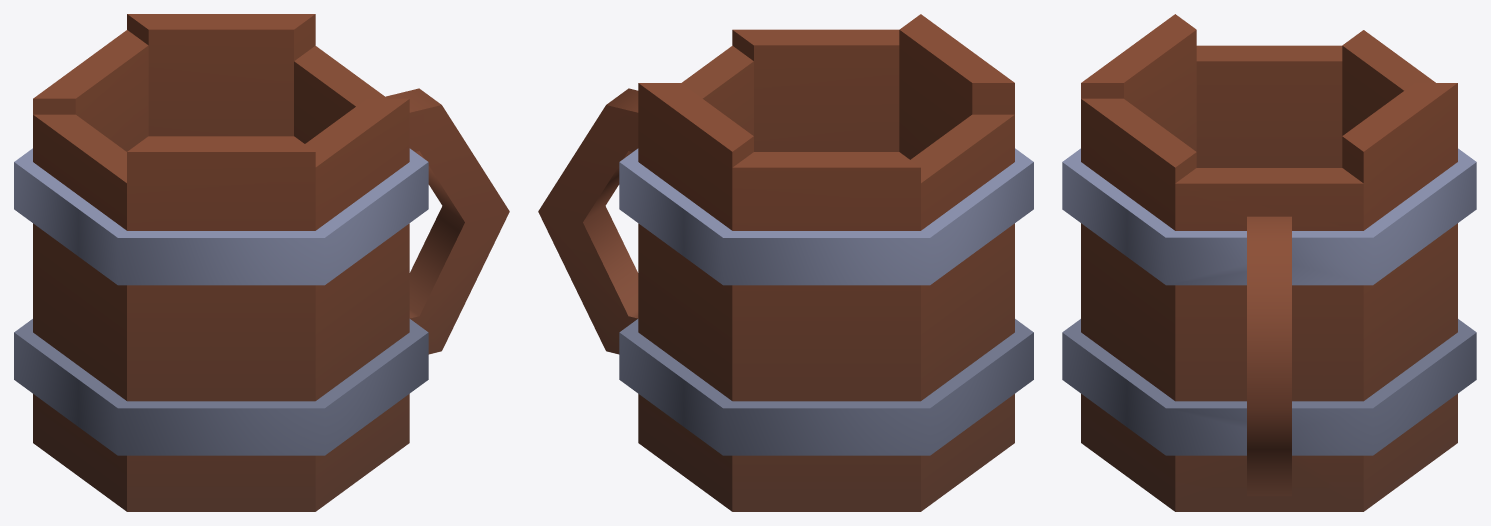
Rendered from tankard.glb.
The picture shows the model from 3 angles, left to right: view 1: azimuth 30°, elevation 25°; view 2: azimuth 150°, elevation 25°; view 3: azimuth 270°, elevation 25°; orthographic projection.
Parts seen in each view (by area): view 1: m; view 2: m; view 3: m.
Boxes of the visible parts, x1,y1,x2,y2 form: m: (14, 14, 509, 511); m: (538, 14, 1033, 511); m: (1062, 14, 1476, 511).
Bounding box in the file's own units: 0.1006 × 0.08 × 0.0834.
